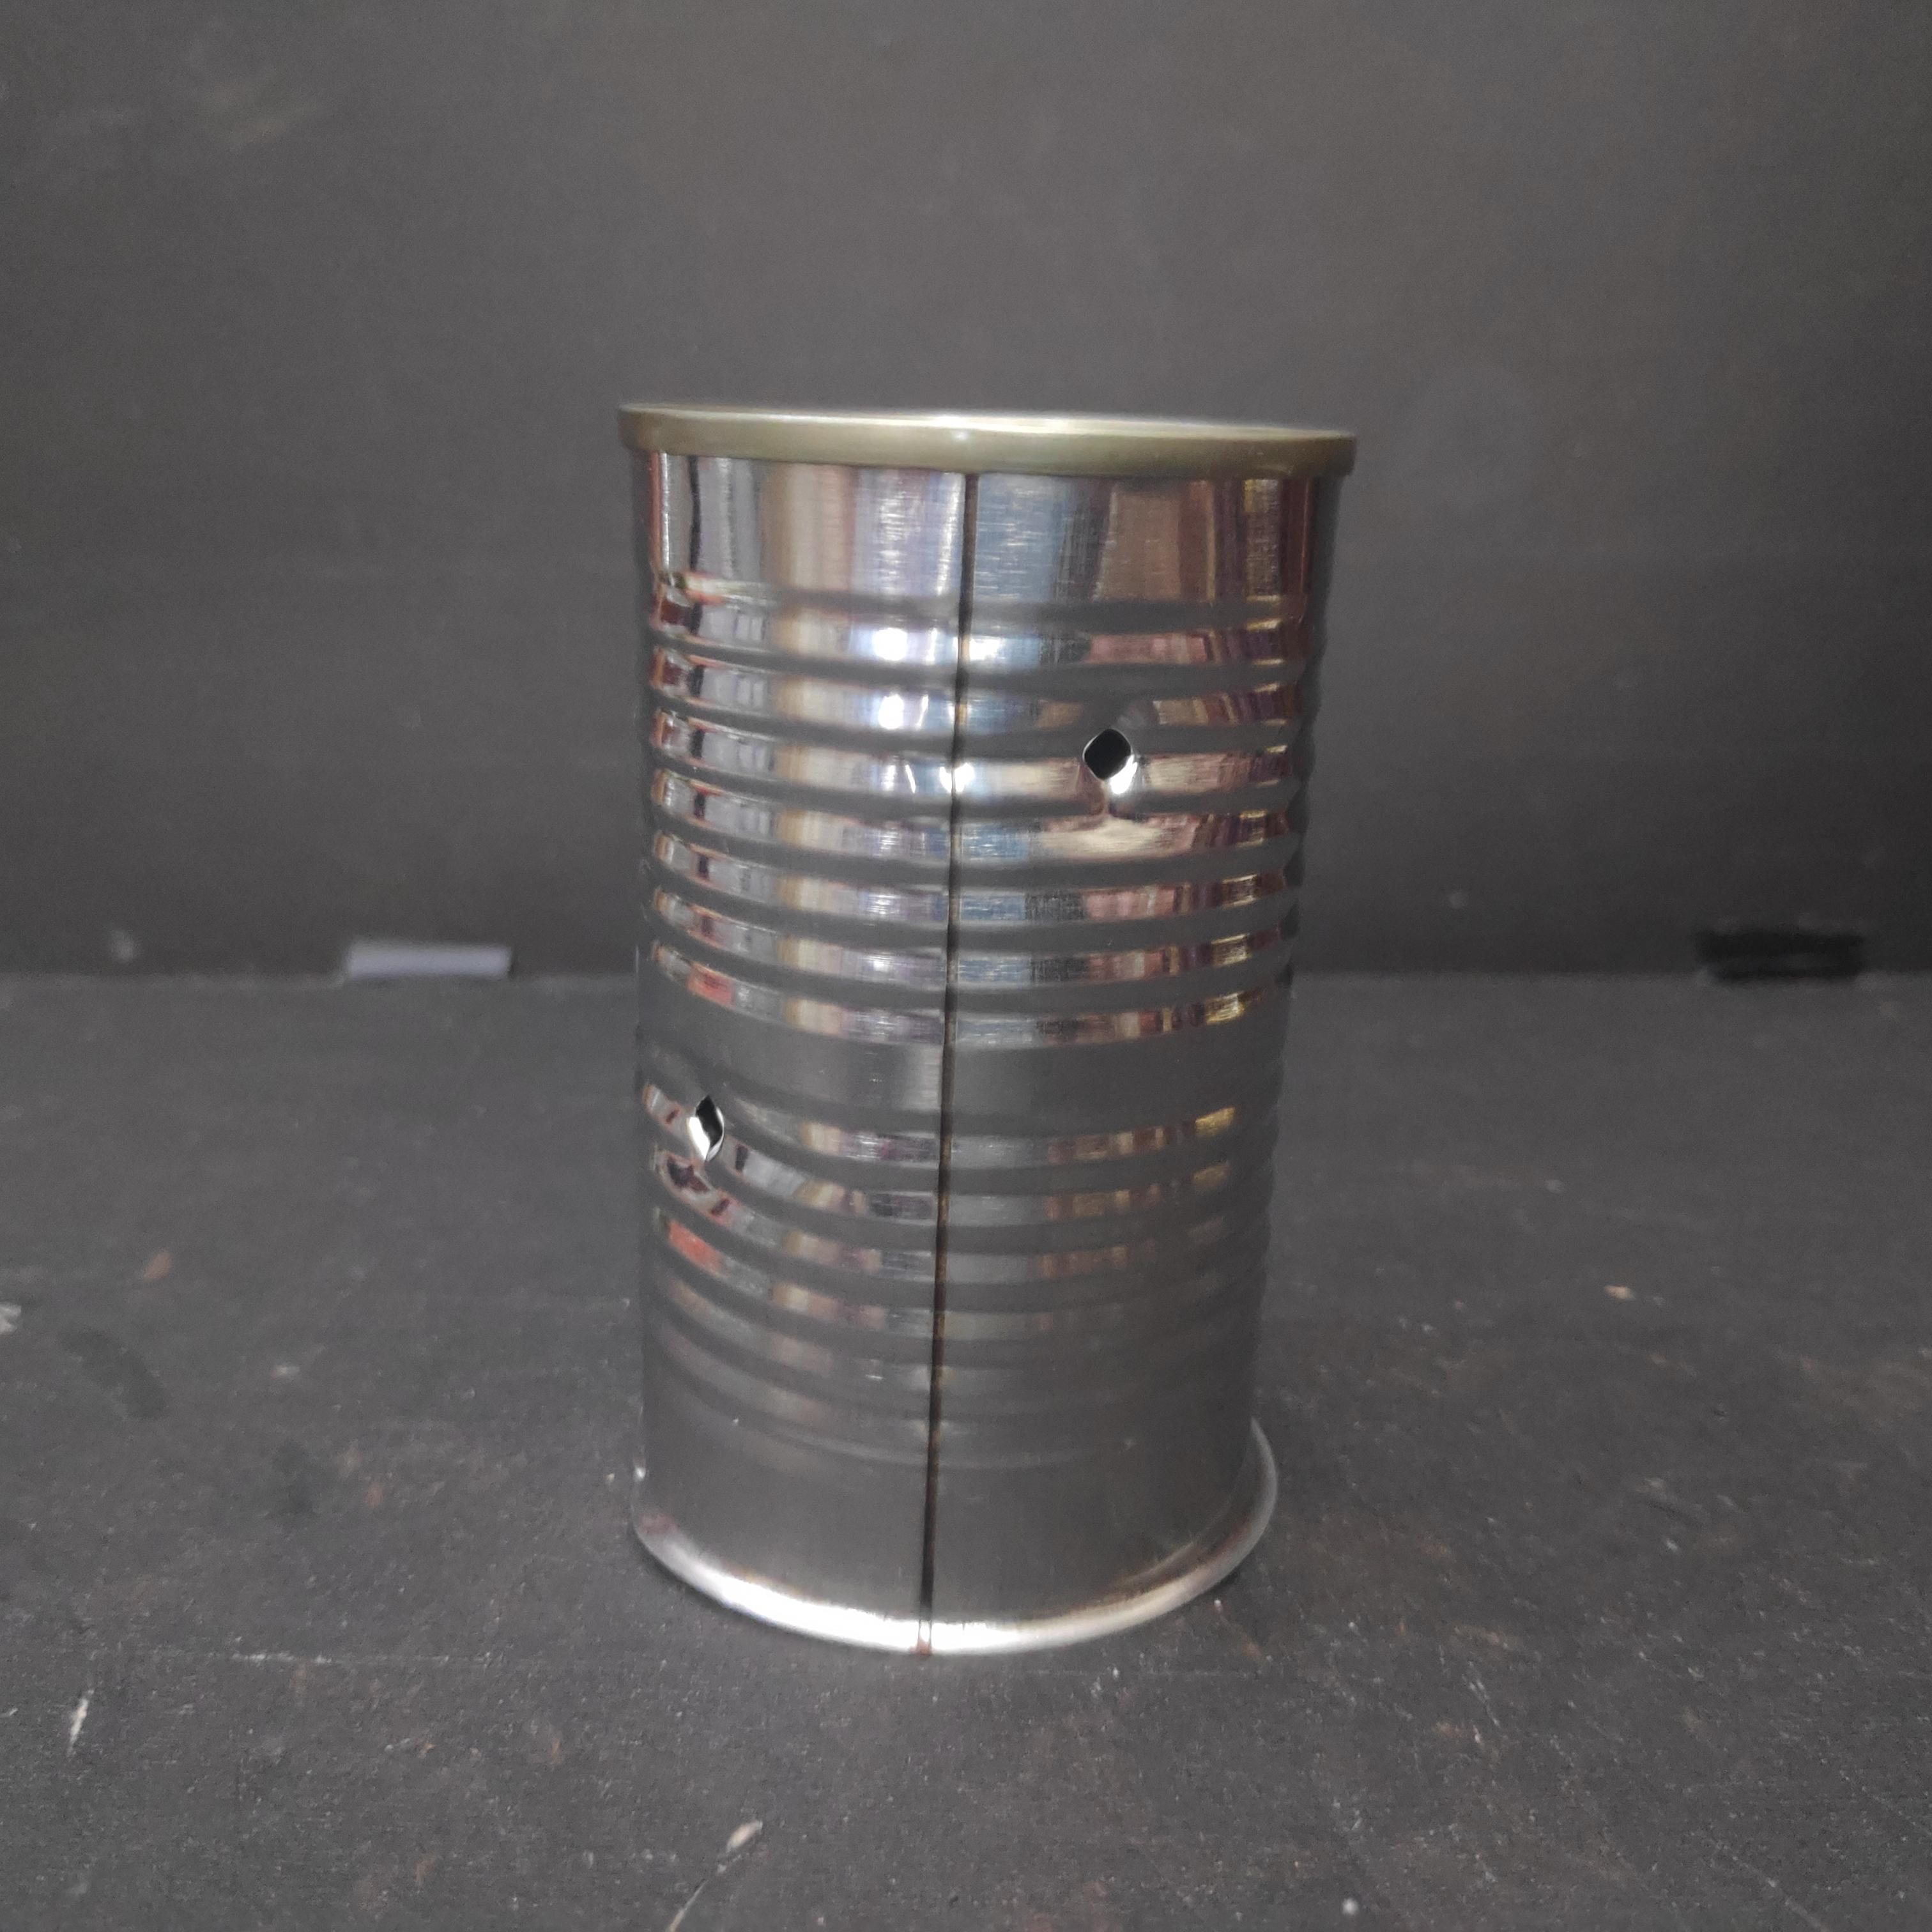Critical Defect: (612, 384, 1378, 1665)
